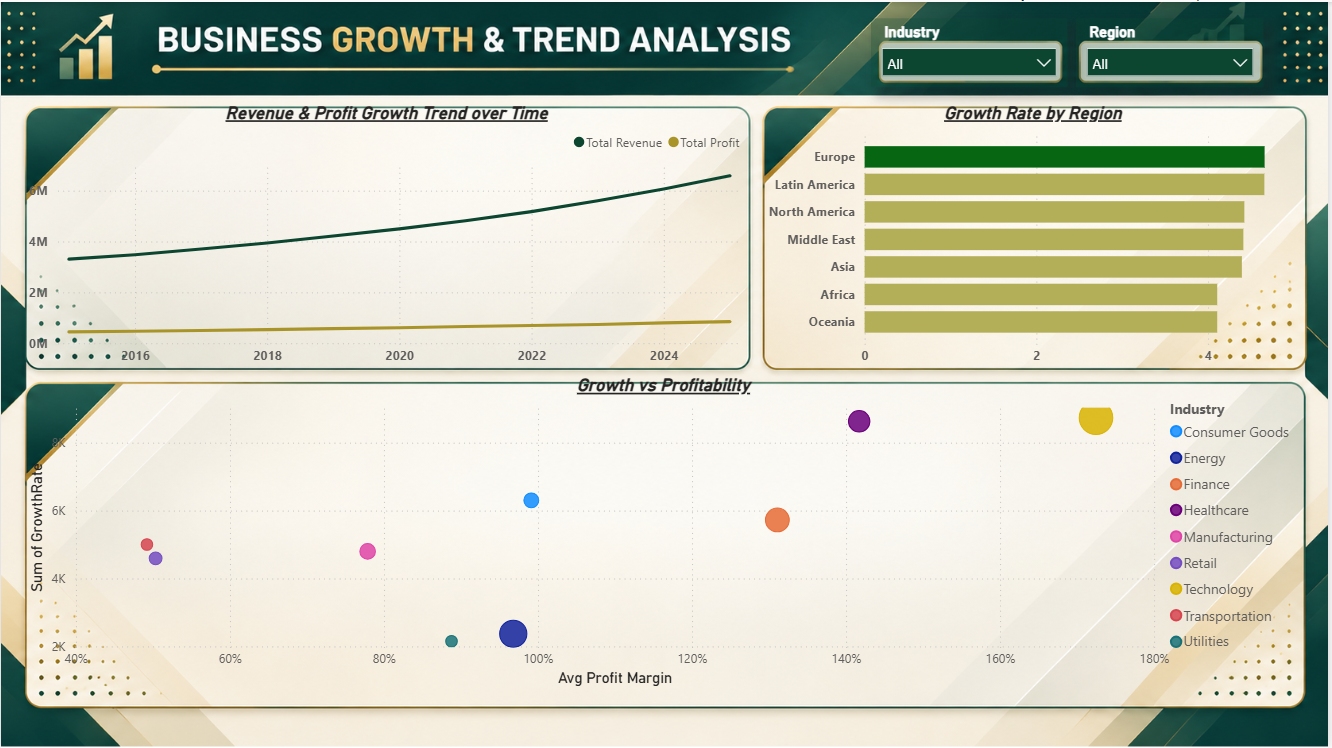

This screenshot's page, from the dashboard's own definition file:
{"tool":"powerbi","page":{"name":"Page 2","canvas":[1280,720],"ordinal":1},"visuals":[{"type":"slicer","fields":{"Values":["Cleaned_Business_Performance.Industry"]},"box":[839.7,15.7,189.4,66.4],"z":0},{"type":"slicer","fields":{"Values":["Cleaned_Business_Performance.Region"]},"box":[1037.5,15.7,181,66.4],"z":1000},{"type":"lineChart","title":"Revenue & Profit Growth Trend over Time","fields":{"Category":["Cleaned_Business_Performance.Year"],"Y":["Cleaned_Business_Performance.Total Revenue","Cleaned_Business_Performance.Total Profit"]},"box":[21.7,96.5,700.9,263],"z":2000},{"type":"clusteredBarChart","title":"Growth Rate by Region","fields":{"Category":["Cleaned_Business_Performance.Region"],"Y":["Cleaned_Business_Performance.Avg Growth Rate"]},"box":[734.7,96.5,522.4,263],"z":3000},{"type":"scatterChart","title":"Growth vs Profitability","fields":{"X":["Cleaned_Business_Performance.Avg Profit Margin"],"Y":["Sum(Cleaned_Business_Performance.GrowthRate)"],"Series":["Cleaned_Business_Performance.Industry"],"Size":["Sum(Cleaned_Business_Performance.Revenue)"]},"box":[21.7,359.5,1235.4,306.4],"z":3001}]}

Visuals, with their boxes in screenshot pixels (x1, y1, x2, y2), scaled from the page's 1280x720 canvas onto the 1332x748 screenshot:
slicer - Cleaned_Business_Performance.Industry: bbox=[874, 16, 1071, 85]
slicer - Cleaned_Business_Performance.Region: bbox=[1080, 16, 1268, 85]
"Revenue & Profit Growth Trend over Time" lineChart: bbox=[23, 100, 752, 373]
"Growth Rate by Region" clusteredBarChart: bbox=[765, 100, 1308, 373]
"Growth vs Profitability" scatterChart: bbox=[23, 373, 1308, 692]
